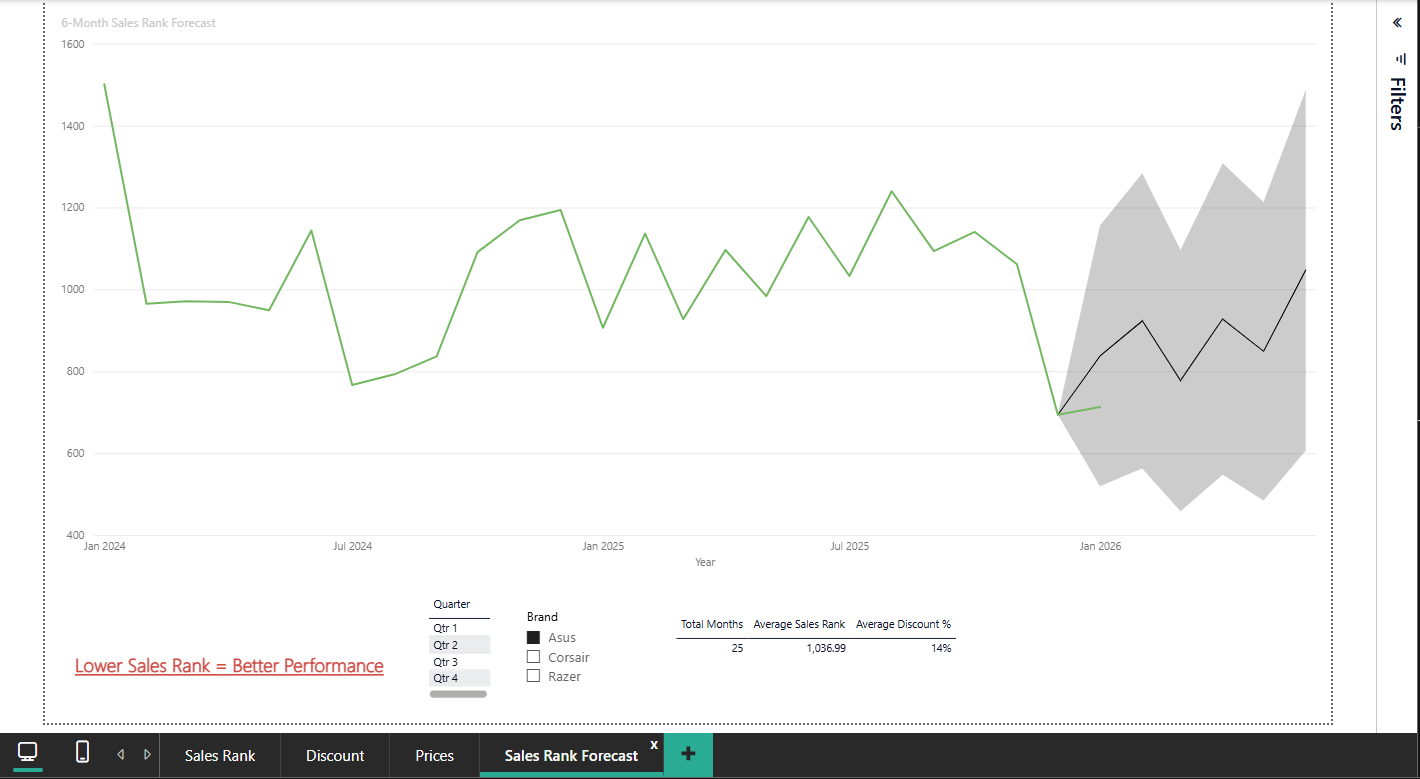

Layout of this report page (visuals, bound fields, positions):
{"tool":"powerbi","page":{"name":"Sales Rank Forecast","canvas":[1280,720],"ordinal":3},"visuals":[{"type":"lineChart","title":"6-Month Sales Rank Forecast","fields":{"Category":["All_Keyboards.Time.Variation.Date Hierarchy.Year","All_Keyboards.Time.Variation.Date Hierarchy.Month"],"Y":["Avg(All_Keyboards.Sales Rank)"]},"box":[10.6,13.6,1269.7,557.6],"z":0},{"type":"slicer","fields":{"Values":["All_Keyboards.Brand"]},"box":[466,600.6,125.6,88],"z":1000},{"type":"tableEx","fields":{"Values":["All_Keyboards.Total Months","All_Keyboards.Average Sales Rank","All_Keyboards.Average Discount %"]},"box":[621.4,607.1,296.4,73.8],"z":2000},{"type":"textbox","box":[24.9,644.4,335.9,53.5],"z":3000},{"type":"tableEx","fields":{"Values":["All_Keyboards.Time.Variation.Date Hierarchy.Quarter"]},"box":[375.7,587.1,72.1,113.2],"z":3001}]}

Visuals, with their boxes on the page's 1280x720 design canvas (x1, y1, x2, y2). These are canvas units, not pixel positions in the 1420x779 screenshot, which may show the page scaled, cropped or inside an application window:
"6-Month Sales Rank Forecast" lineChart: 11, 14, 1280, 571
slicer - All_Keyboards.Brand: 466, 601, 592, 689
tableEx - All_Keyboards.Total Months x All_Keyboards.Average Sales Rank: 621, 607, 918, 681
textbox: 25, 644, 361, 698
tableEx - All_Keyboards.Time.Variation.Date Hierarchy.Quarter: 376, 587, 448, 700
